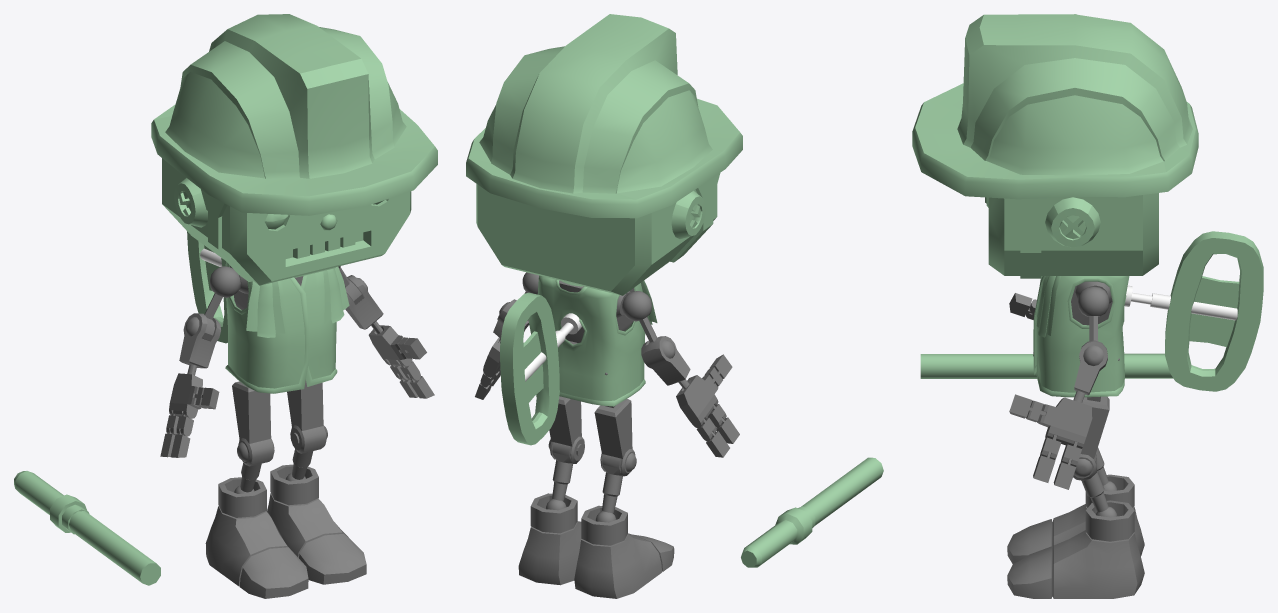
The model's file is npc_construction02_noRig2.fbx.
3 views of the same model, side by side, from view 1: azimuth 30°, elevation 25°; view 2: azimuth 150°, elevation 25°; view 3: azimuth 270°, elevation 25° (orthographic). The views are drawn at different scales.
Visible parts, largest first — view 1: hat, body, head_01, clothes, glowstick, towel, spring, ear; view 2: hat, body, head_01, clothes, spring, glowstick, ear; view 3: hat, body, spring, head_01, clothes, glowstick, ear, towel.
Part boxes in pixels (<box>): hat: <box>151,14,437,281</box>; body: <box>160,248,434,598</box>; head_01: <box>162,158,411,285</box>; clothes: <box>225,261,337,393</box>; glowstick: <box>14,471,160,585</box>; towel: <box>246,266,349,337</box>; spring: <box>187,231,227,343</box>; ear: <box>174,178,207,227</box>; hat: <box>466,14,742,262</box>; body: <box>475,272,739,598</box>; head_01: <box>476,184,717,295</box>; clothes: <box>537,275,645,406</box>; spring: <box>500,292,559,445</box>; glowstick: <box>741,457,883,567</box>; ear: <box>671,190,706,238</box>; hat: <box>912,14,1198,278</box>; body: <box>1007,281,1237,598</box>; spring: <box>1165,231,1263,391</box>; head_01: <box>985,193,1158,275</box>; clothes: <box>1033,276,1129,397</box>; glowstick: <box>920,353,1173,378</box>; ear: <box>1045,197,1100,247</box>; towel: <box>1036,276,1060,337</box>.
Bounding box in the file's own units: 72.67 × 105 × 61.4.
